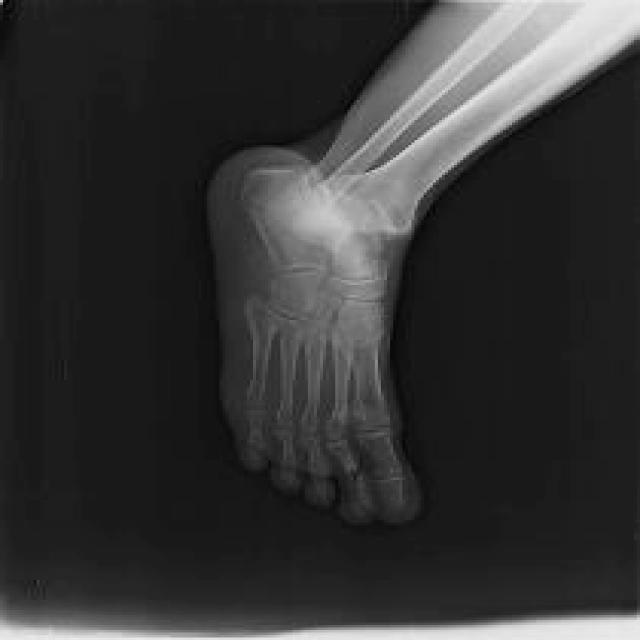normal: (244, 0, 636, 523)
